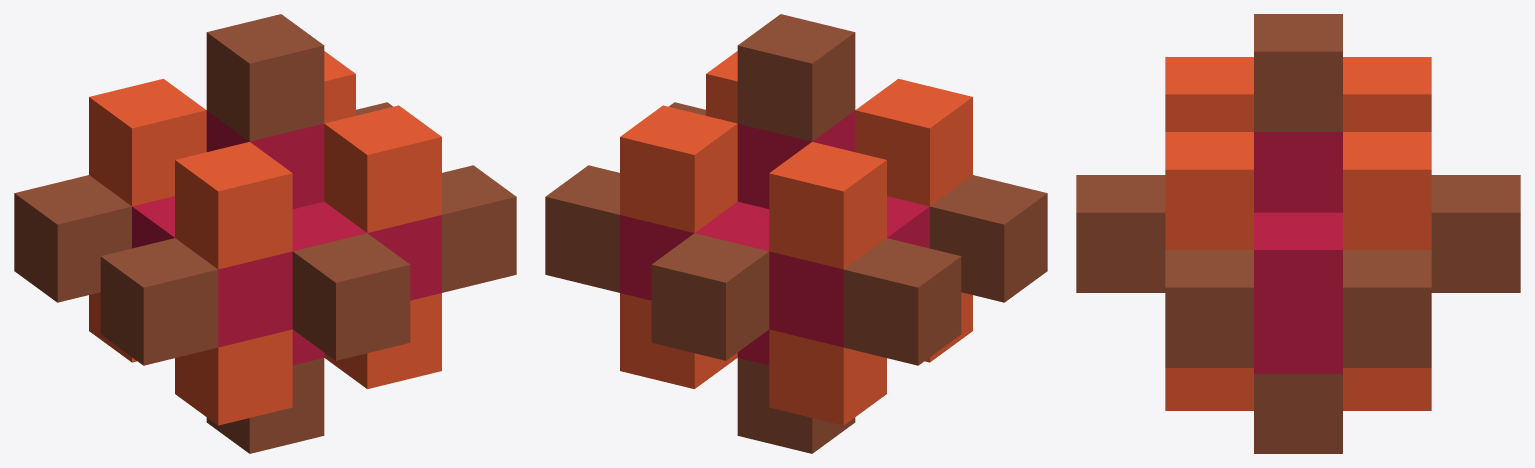
Rendered from VirusParticle.obj.
3 renders of one model, left to right at view 1: azimuth 30°, elevation 25°; view 2: azimuth 150°, elevation 25°; view 3: azimuth 270°, elevation 25°, orthographic. The views are drawn at different scales.
Bounding box in the file's own units: 0.5 × 0.5 × 0.5.
1 material, 1 textured.
